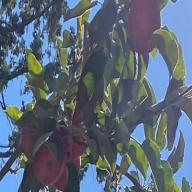Apples: (128, 0, 161, 55), (34, 129, 66, 184), (68, 114, 88, 156), (65, 146, 80, 174), (53, 164, 68, 190), (21, 125, 33, 156)
